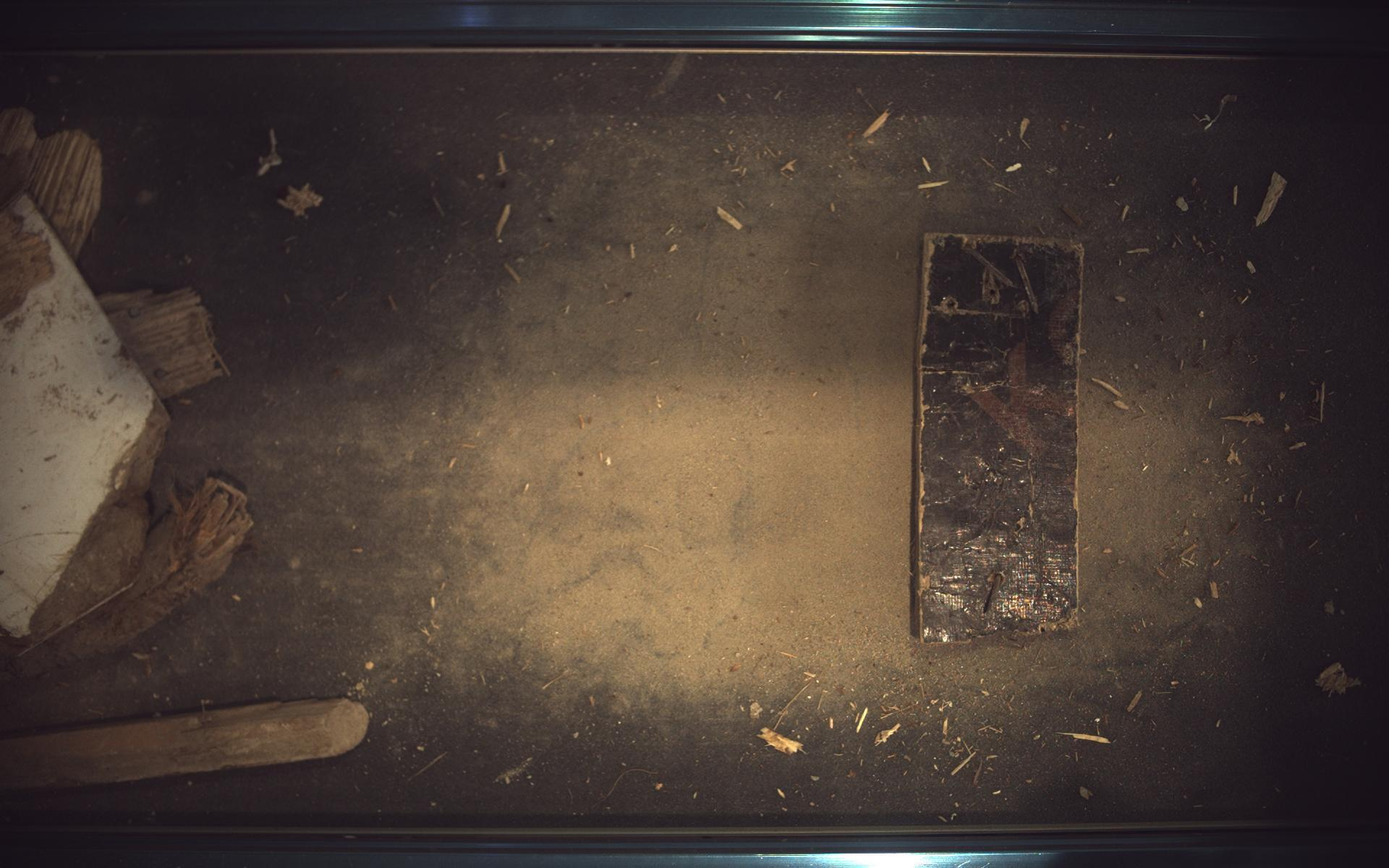wood: (915, 232, 1086, 643)
